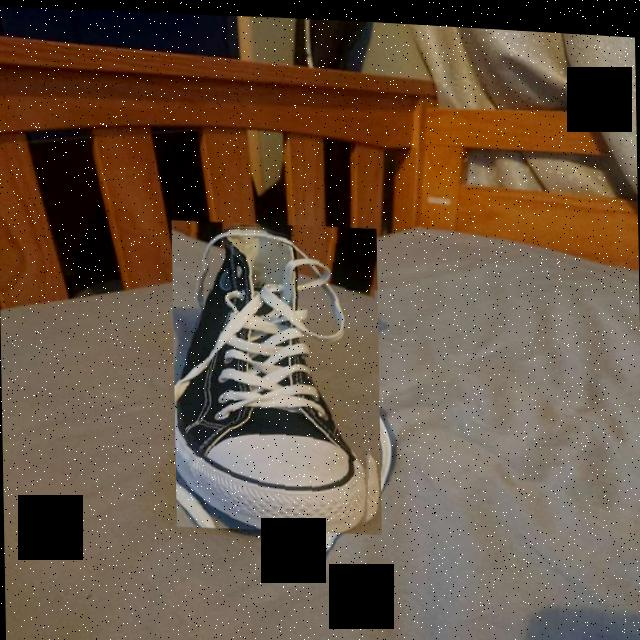shoe: (171, 214, 381, 534)
